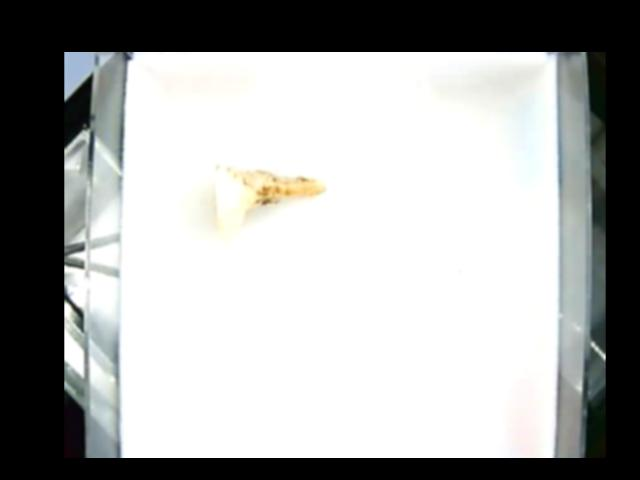Mooli: (208, 161, 338, 239)
